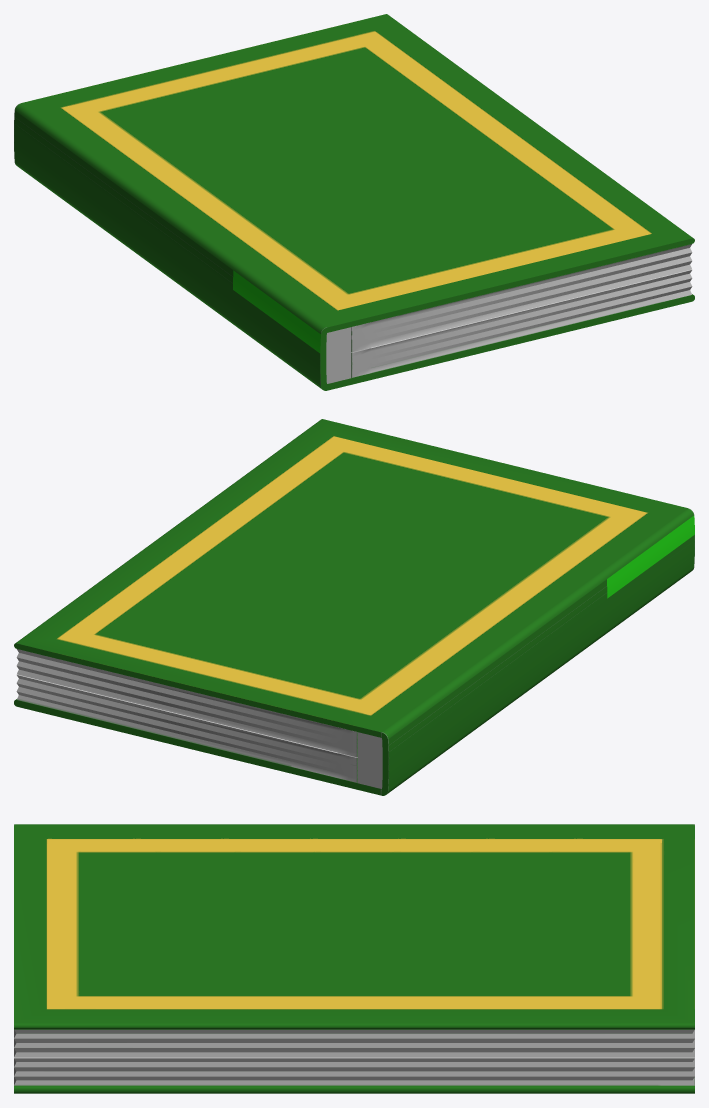
3 renders of one model, top to bottom at view 1: azimuth 30°, elevation 25°; view 2: azimuth 150°, elevation 25°; view 3: azimuth 270°, elevation 25°, orthographic. The views are drawn at different scales.
Visible parts, largest first — view 1: 红书_绿; view 2: 红书_绿; view 3: 红书_绿.
Part boxes in pixels (x1,y1,x2,y2): 红书_绿: [14, 14, 694, 390]; 红书_绿: [14, 419, 694, 795]; 红书_绿: [14, 824, 694, 1093].
Bounding box in the file's own units: 142 × 22.97 × 202.
